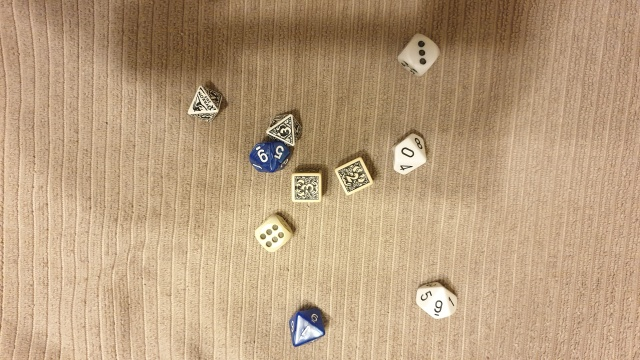d10-1: (281, 304, 330, 349)
d10-10: (385, 126, 429, 179)
d10-9: (414, 275, 459, 325), (247, 140, 295, 175)
d6-3: (394, 30, 441, 79)
d6-6: (253, 215, 294, 255)
d6p-2: (333, 155, 375, 199)
d6p-3: (291, 169, 322, 205)
d8p-1: (184, 82, 224, 125)
d8p-3: (265, 111, 304, 151)
